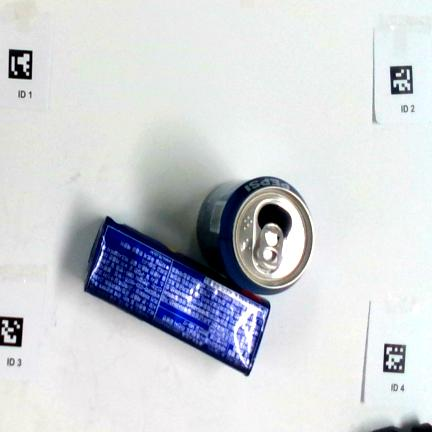can_pepsi: (197, 176, 314, 294)
cracker_ace: (85, 217, 270, 375)
